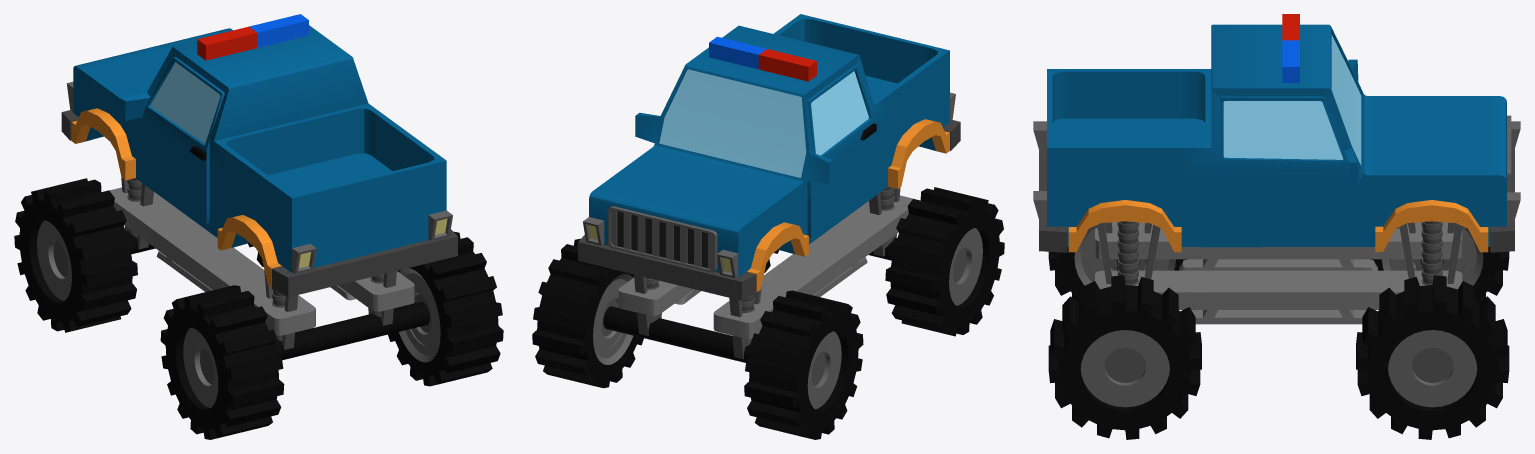
The model's file is Car_02.fbx.
The picture shows the model from 3 angles, left to right: view 1: azimuth 30°, elevation 25°; view 2: azimuth 150°, elevation 25°; view 3: azimuth 270°, elevation 25°; orthographic projection. The views are drawn at different scales.
Parts seen in each view (by area): view 1: Cylinder.001, Cylinder.004, Cylinder.008, Cylinder.005; view 2: Cylinder.001, Cylinder.008, Cylinder.004, Cylinder.005; view 3: Cylinder.001, Cylinder.005, Cylinder.008, Cylinder.004.
Part boxes in pixels (x1,y1,x2,y2): Cylinder.001: (61, 14, 457, 297); Cylinder.004: (160, 231, 503, 439); Cylinder.008: (14, 178, 263, 332); Cylinder.005: (109, 177, 414, 349); Cylinder.001: (578, 14, 960, 300); Cylinder.008: (532, 238, 863, 439); Cylinder.004: (764, 187, 1004, 336); Cylinder.005: (618, 186, 913, 359); Cylinder.001: (1033, 14, 1520, 252); Cylinder.005: (1093, 221, 1465, 324); Cylinder.008: (1356, 228, 1509, 439); Cylinder.004: (1048, 226, 1201, 439).
Bounding box in the file's own units: 408 × 454 × 606.
